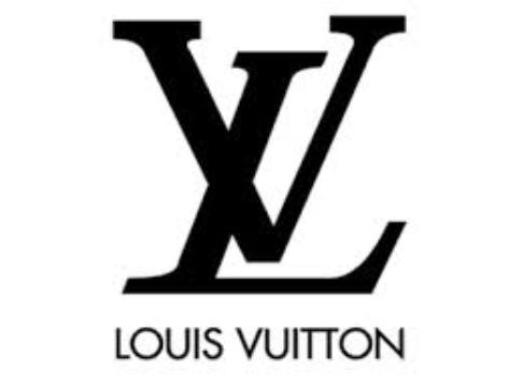LOUIS-VUITTON: (96, 11, 429, 311), (86, 320, 427, 366)
